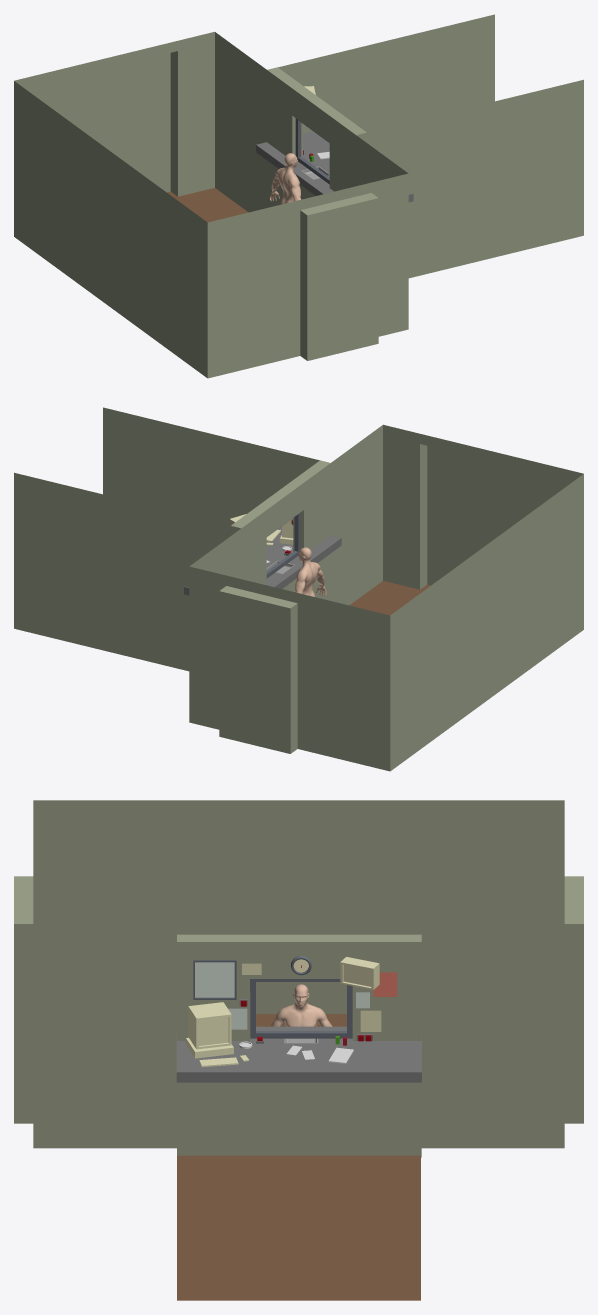
File: RailRushRegister.gltf
3 renders of one model, top to bottom at view 1: azimuth 30°, elevation 25°; view 2: azimuth 150°, elevation 25°; view 3: azimuth 270°, elevation 25°, orthographic. The views are drawn at different scales.
Parts seen in each view (by area): view 1: Plane.001, Cube, Plane.007, FinalBaseMesh, Cube.008; view 2: Plane.001, Cube, Plane.007, FinalBaseMesh, Cube.008; view 3: Plane.001, Cube, Plane.007, Cube.005, Cube.008, map.002, FinalBaseMesh, Cube.002.
Part boxes in pixels (x1=…): Plane.001: x1=14, y1=14, x2=583, y2=378; Cube: x1=267, y1=67, x2=366, y2=207; Plane.007: x1=256, y1=131, x2=413, y2=202; FinalBaseMesh: x1=269, y1=153, x2=300, y2=204; Cube.008: x1=295, y1=118, x2=329, y2=184; Plane.001: x1=14, y1=407, x2=583, y2=771; Cube: x1=230, y1=460, x2=330, y2=600; Plane.007: x1=184, y1=526, x2=341, y2=595; FinalBaseMesh: x1=295, y1=547, x2=326, y2=596; Cube.008: x1=266, y1=513, x2=300, y2=578; Plane.001: x1=14, y1=800, x2=583, y2=1300; Cube: x1=177, y1=934, x2=421, y2=1157; Plane.007: x1=176, y1=1026, x2=421, y2=1082; Cube.005: x1=188, y1=1002, x2=231, y2=1049; Cube.008: x1=250, y1=979, x2=352, y2=1038; map.002: x1=195, y1=962, x2=234, y2=997; FinalBaseMesh: x1=270, y1=984, x2=332, y2=1026; Cube.002: x1=340, y1=957, x2=379, y2=989.
Size of the model in its own units: 11.92 by 4.18 by 10.02.
